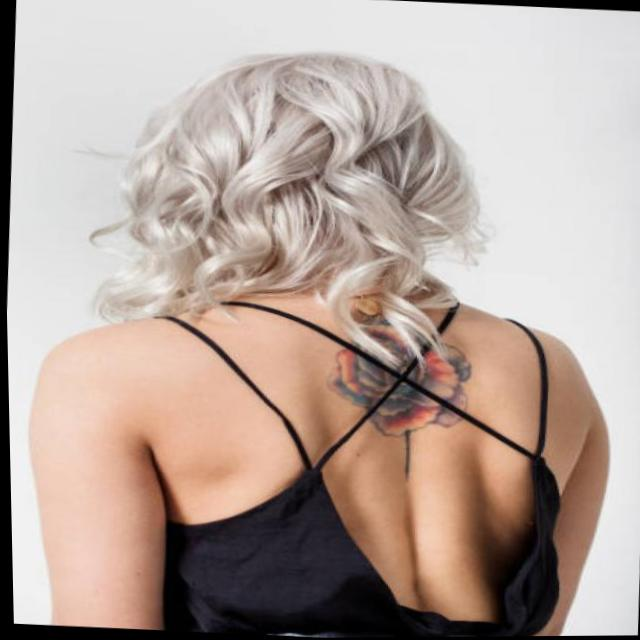no helmet: (127, 34, 491, 329)
